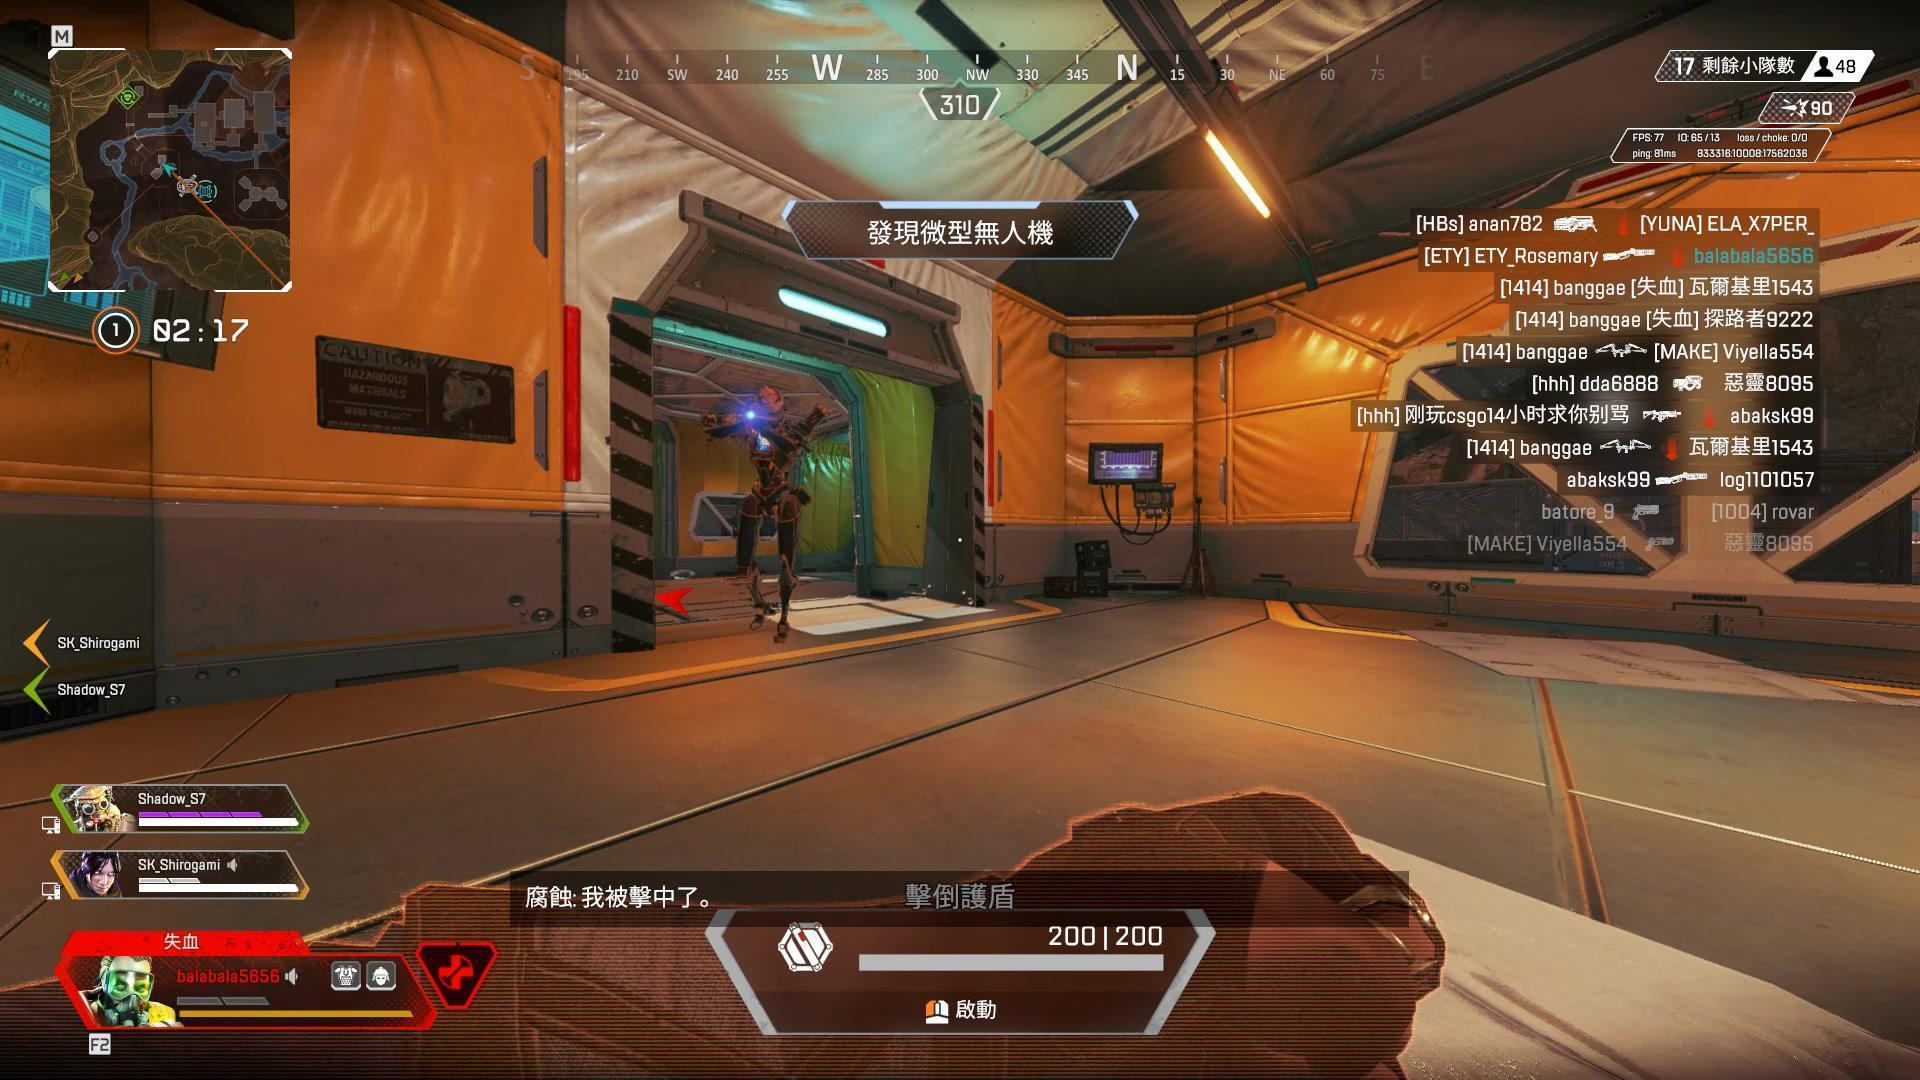avatar: (698, 380, 829, 648)
